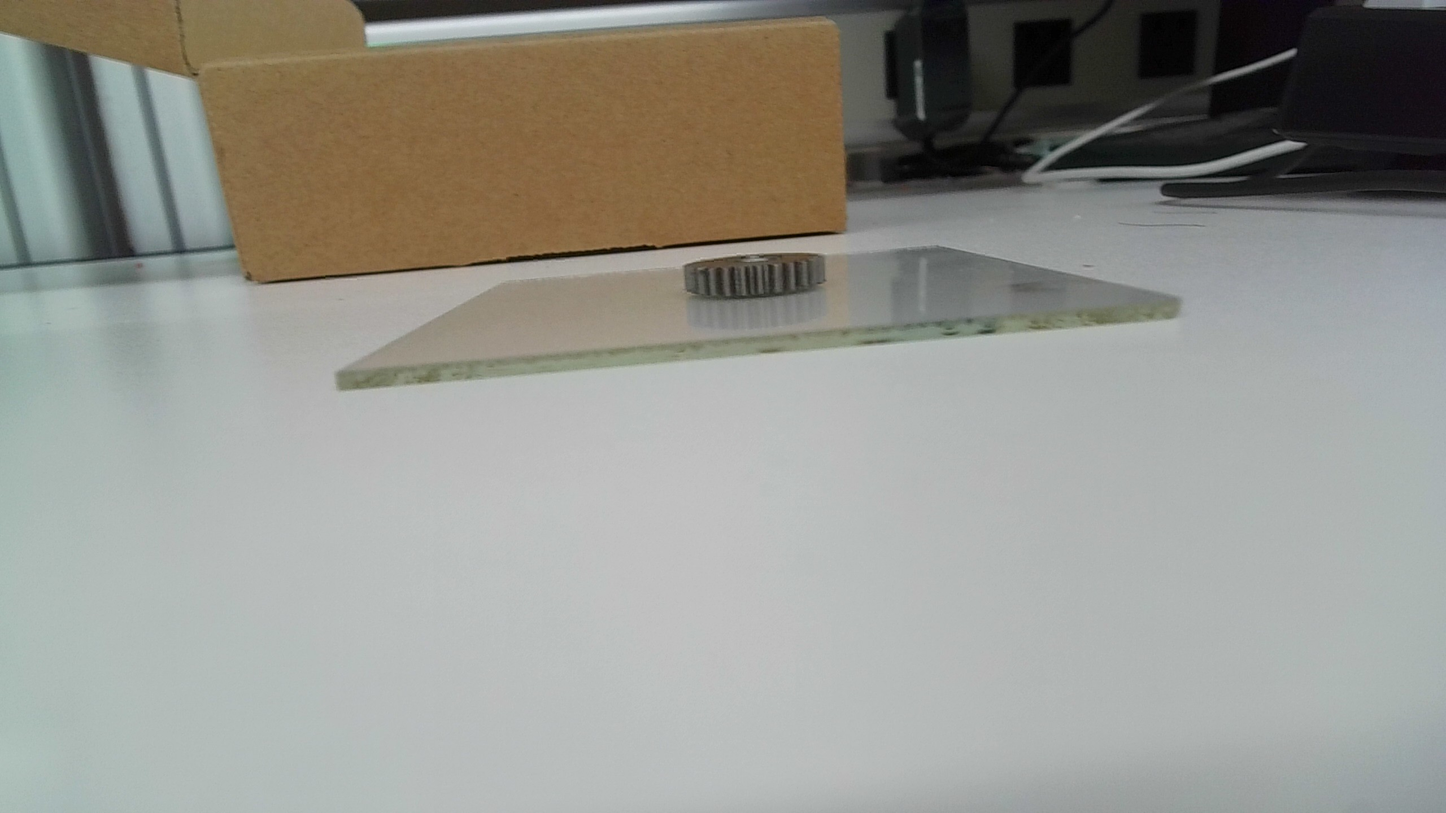gear: (682, 251, 829, 303)
